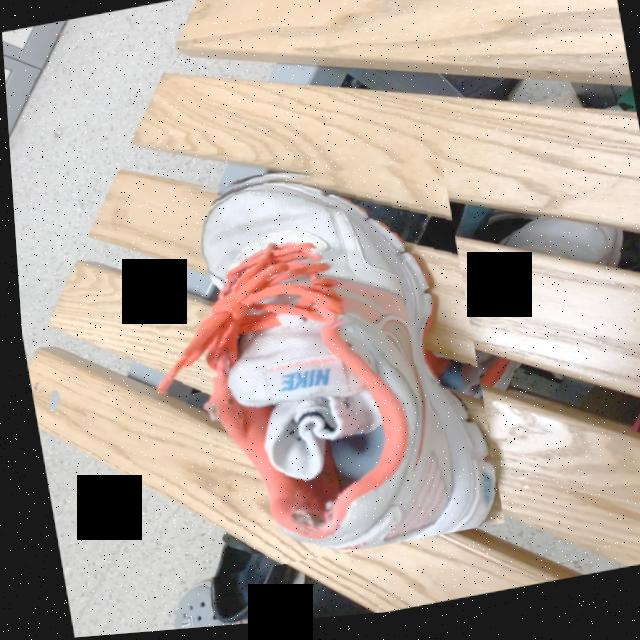shoe: (152, 183, 489, 554)
